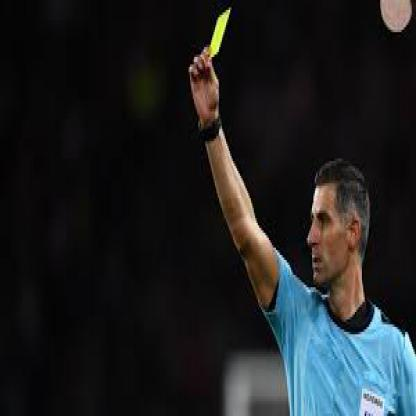foul: (165, 4, 263, 241)
